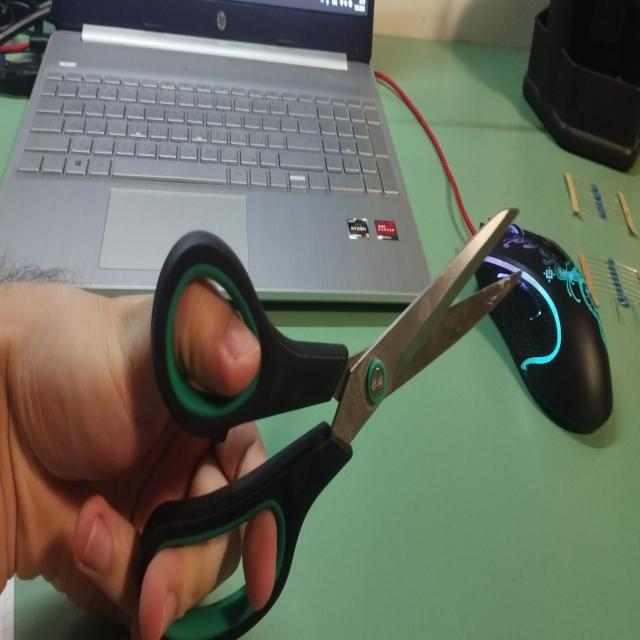tesoura: (130, 199, 524, 640)
